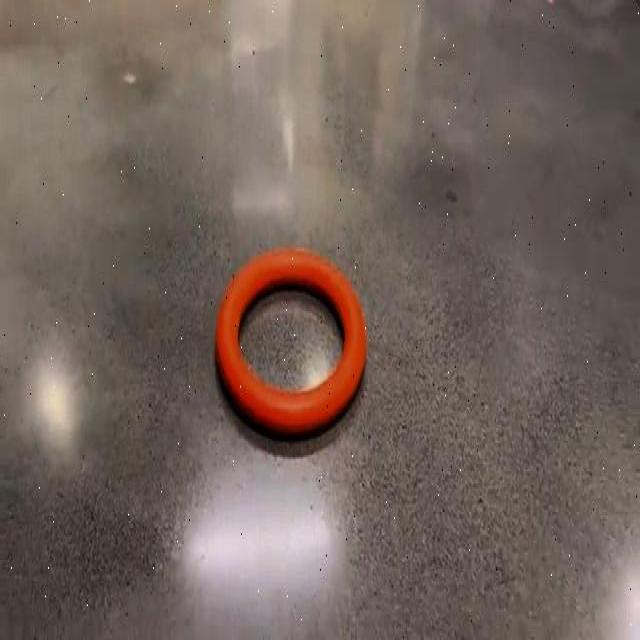note: (215, 249, 366, 436)
